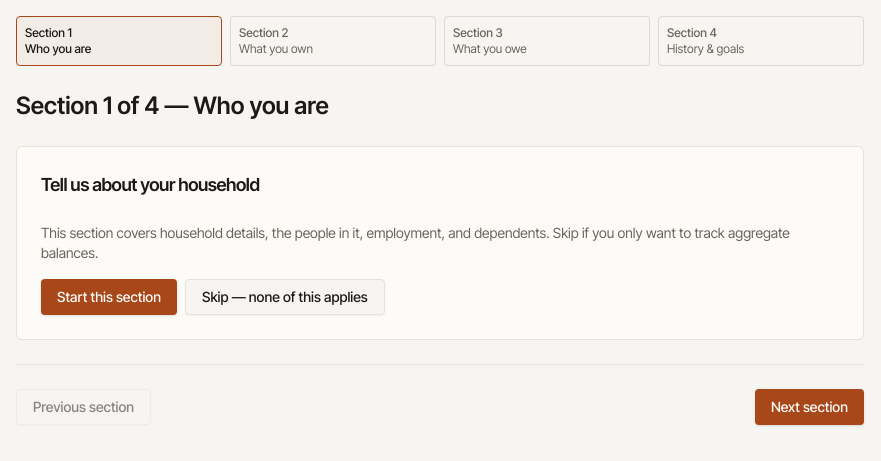
SectionLayout › auto-advances when the user clicks Skip on the entry gate
// Section 1 starts at the entry gate ("Start" / "Skip" buttons).
Click the button "Skip — none of this applies".
click(285, 297)  # box left=185, top=279, right=385, bottom=315
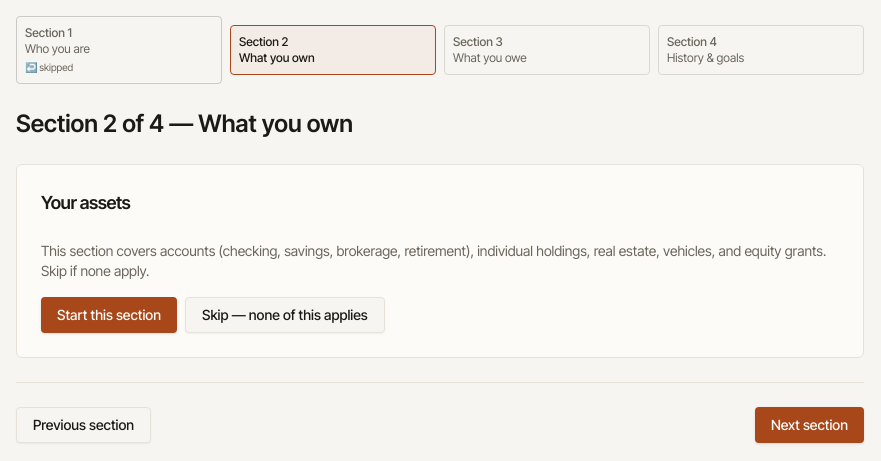
Check: the heading "Section 2 of 4 — What you own" is shown, box left=16, top=109, right=353, bottom=138
